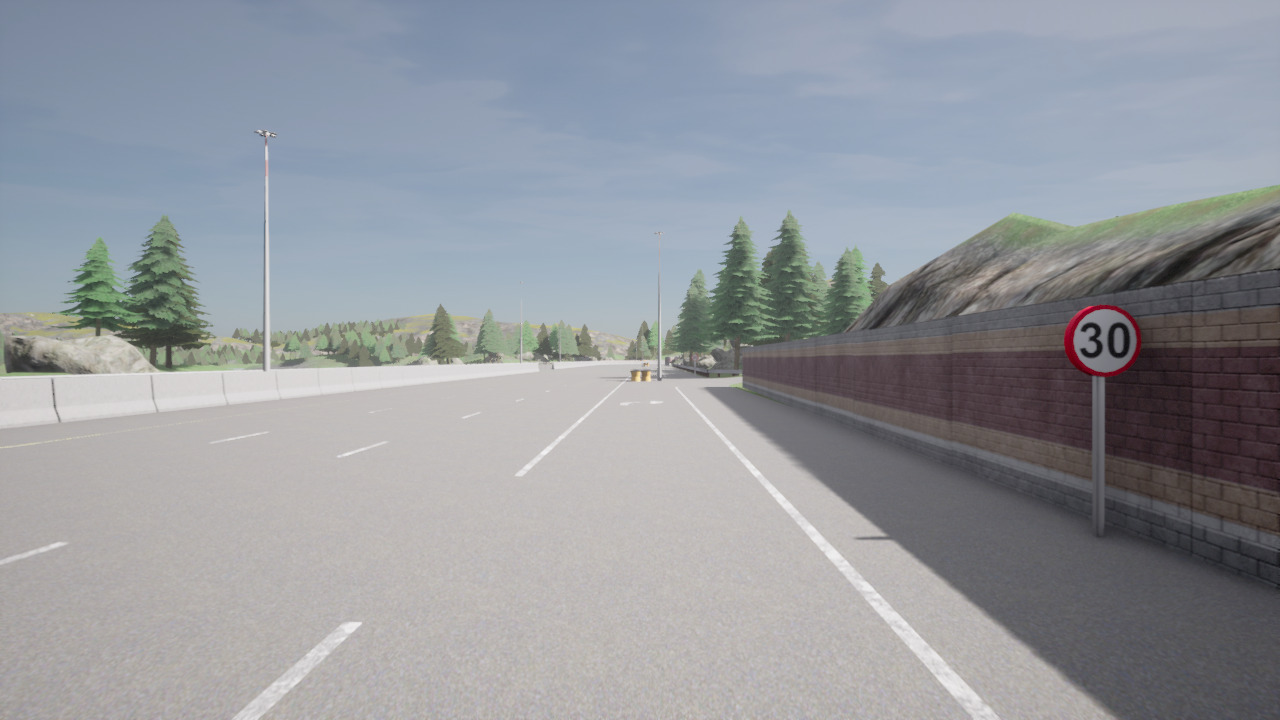sl30: (1063, 304, 1144, 377)
